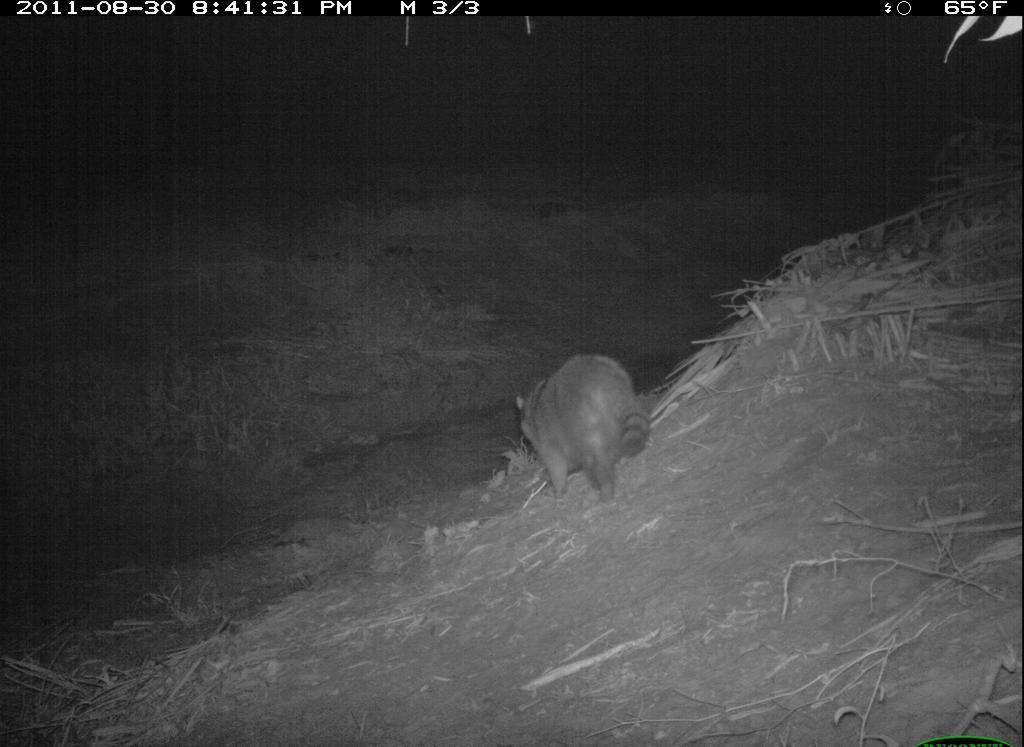raccoon: (498, 346, 693, 539)
